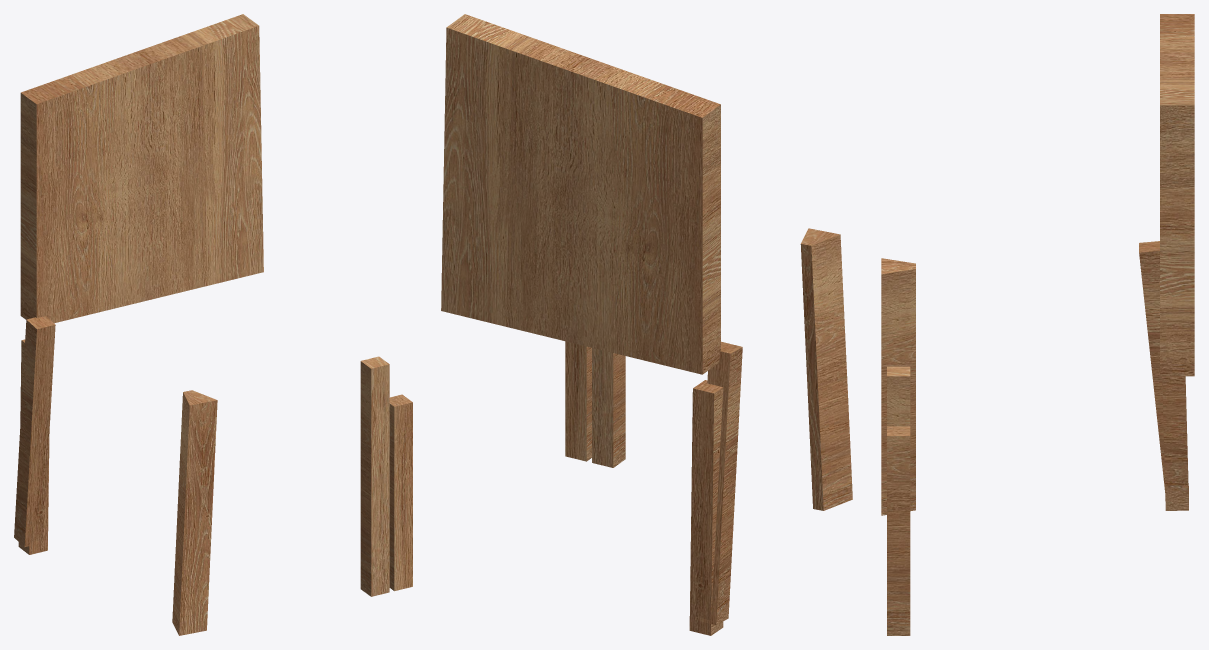
File: 38527_deepcad.glb
3 renders of one model, left to right at view 1: azimuth 30°, elevation 25°; view 2: azimuth 150°, elevation 25°; view 3: azimuth 270°, elevation 25°, orthographic. The views are drawn at different scales.
Parts seen in each view (by area): view 1: test_cmd_38527_pred; view 2: test_cmd_38527_pred; view 3: test_cmd_38527_pred.
Part boxes in pixels (<box>): test_cmd_38527_pred: <box>14,14,412,635</box>; test_cmd_38527_pred: <box>441,14,852,635</box>; test_cmd_38527_pred: <box>881,14,1194,635</box>.
Bounding box in the file's own units: 0.5711 × 1 × 0.5507.
Materials: 1 (1 with a texture image).
